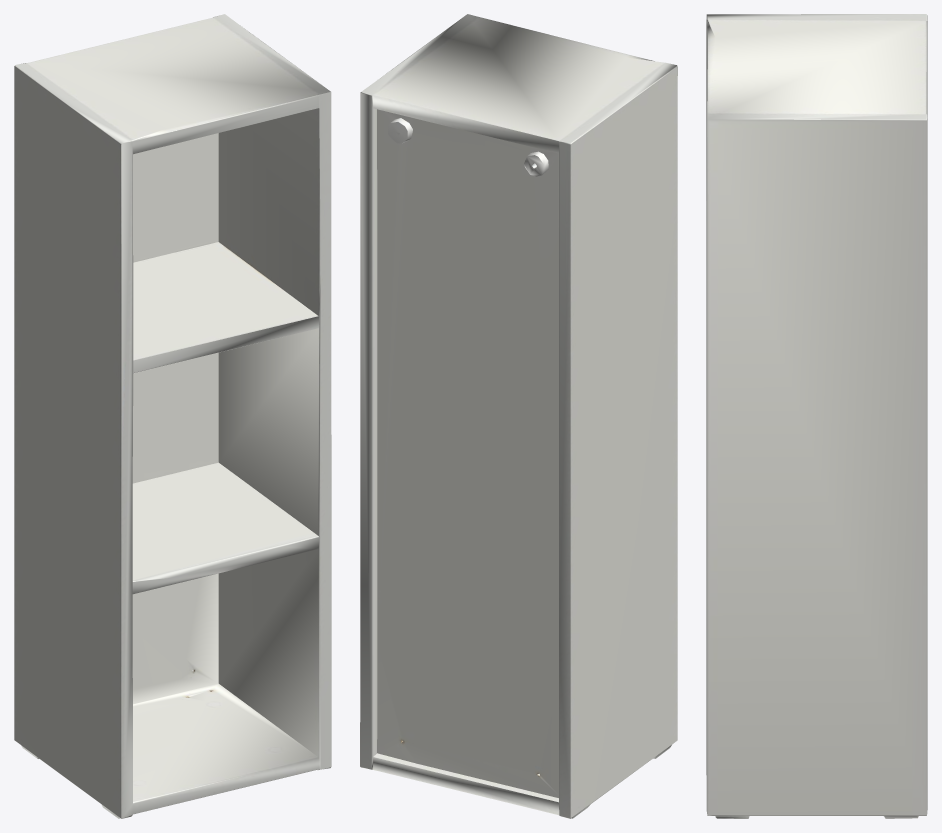
Rendered from smagora_rega_30465489.glb.
3 renders of one model, left to right at view 1: azimuth 30°, elevation 25°; view 2: azimuth 150°, elevation 25°; view 3: azimuth 270°, elevation 25°, orthographic. The views are drawn at different scales.
Visible parts, largest first — view 1: smagora_rega_30465489; view 2: smagora_rega_30465489; view 3: smagora_rega_30465489.
Boxes of the visible parts, x1,y1,x2,y2 form: smagora_rega_30465489: (14, 14, 331, 818); smagora_rega_30465489: (360, 14, 677, 818); smagora_rega_30465489: (706, 14, 927, 818).
Size of the model in its own units: 0.2844 by 0.8754 by 0.2505.
Materials: 1 (1 with a texture image).
